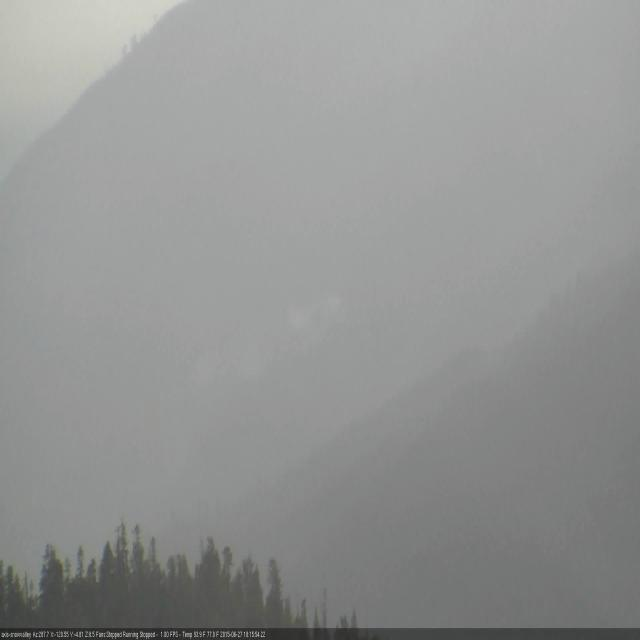smoke: (315, 286, 344, 323)
